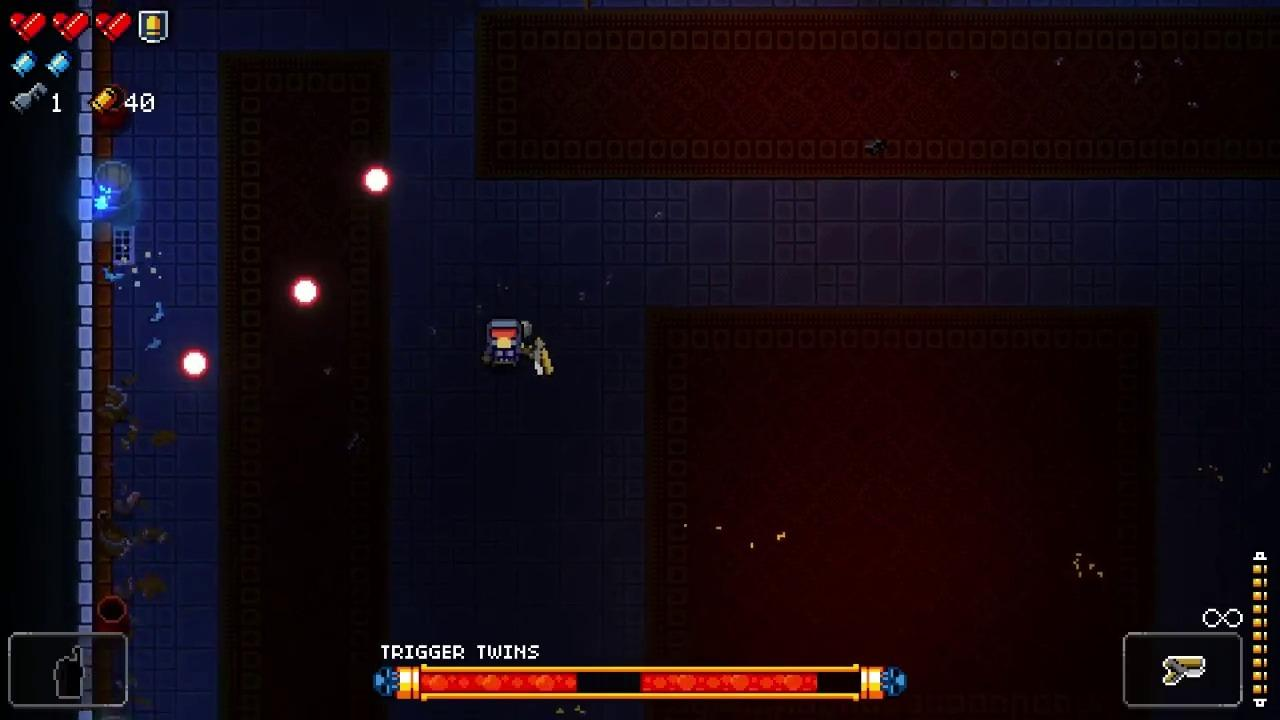bullet: (180, 348, 211, 380), (291, 277, 321, 310), (367, 168, 395, 200)
player: (485, 319, 524, 372)
